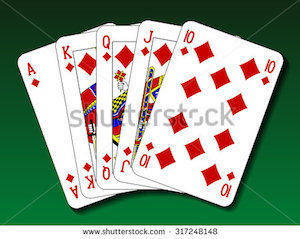AceOfDiamonds: (10, 47, 79, 205)
JackOfDiamonds: (116, 20, 174, 191)
KingOfDiamonds: (53, 30, 104, 196)
QueenOfDiamonds: (94, 25, 135, 194)
TenOfDiamonds: (160, 20, 285, 210)
